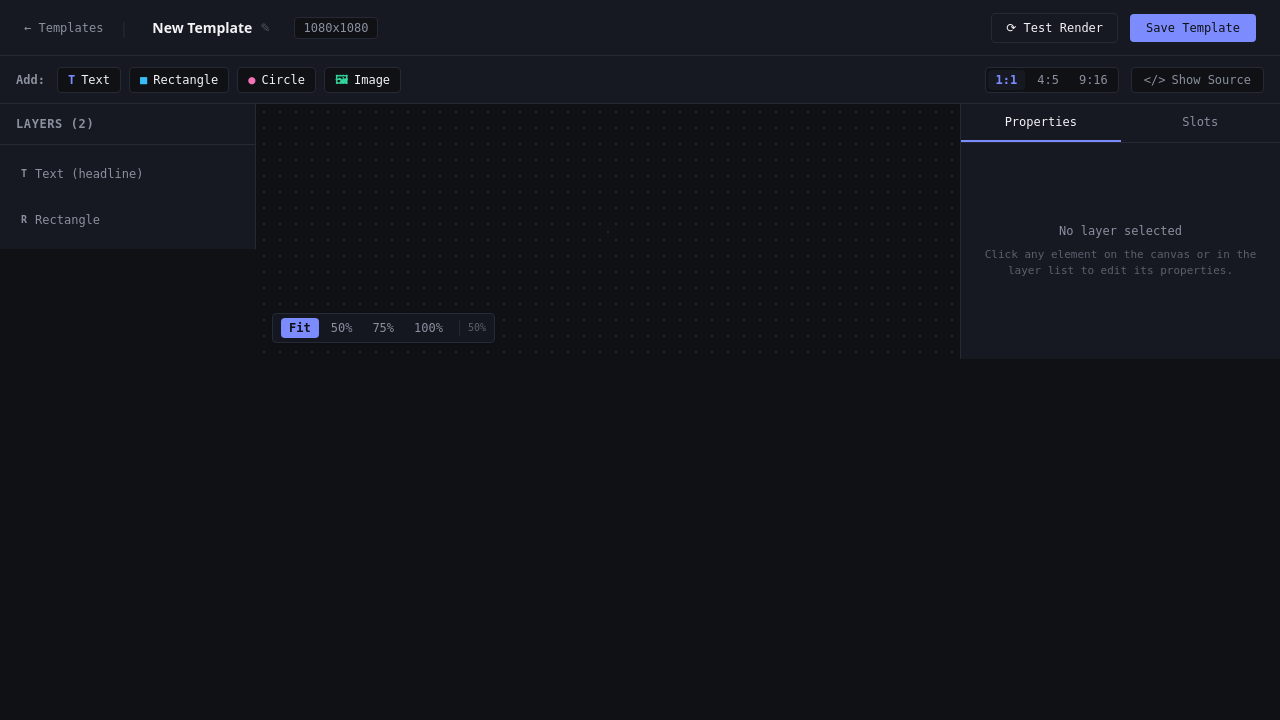
TemplateEditorPage › opens and closes source code drawer
What coordinates should you click on to do the following:
click the button "</> Show Source"
I would click on:
 (1197, 80)
Its box is [1131,66,1264,92].
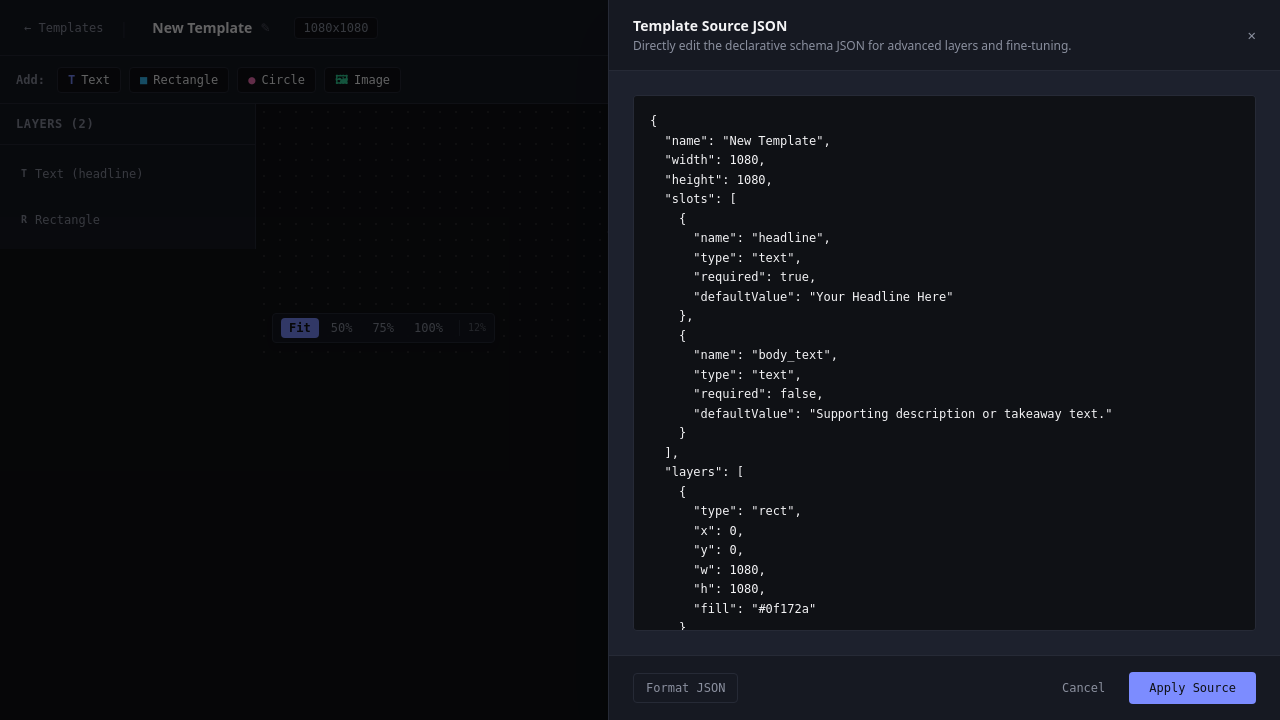
Now the heading "Template Source JSON" is shown, box [633,16,787,35]
Now the button "Apply Source" is shown, box [1129,672,1256,704]
What coordinates should you click on to do the following:
click the button named "Close"
I would click on:
 (1252, 35)
Its box is [1248,25,1256,45].
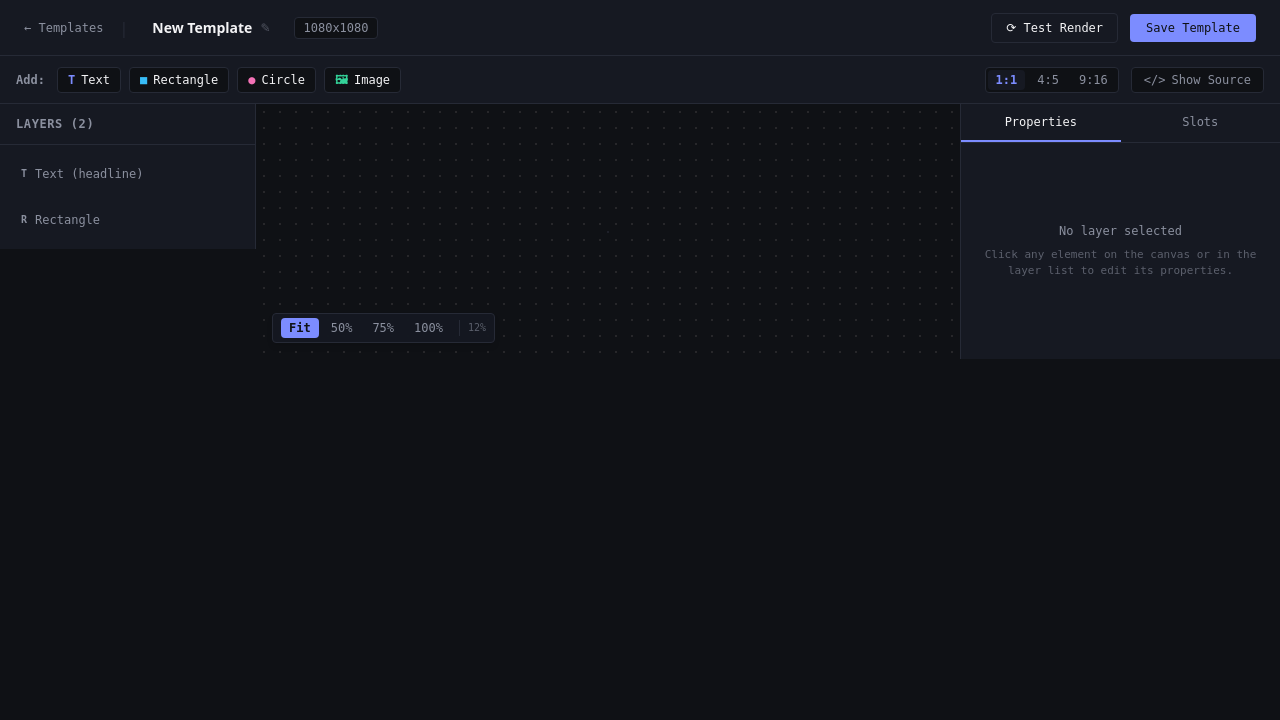
Now the heading "Template Source JSON" is gone
